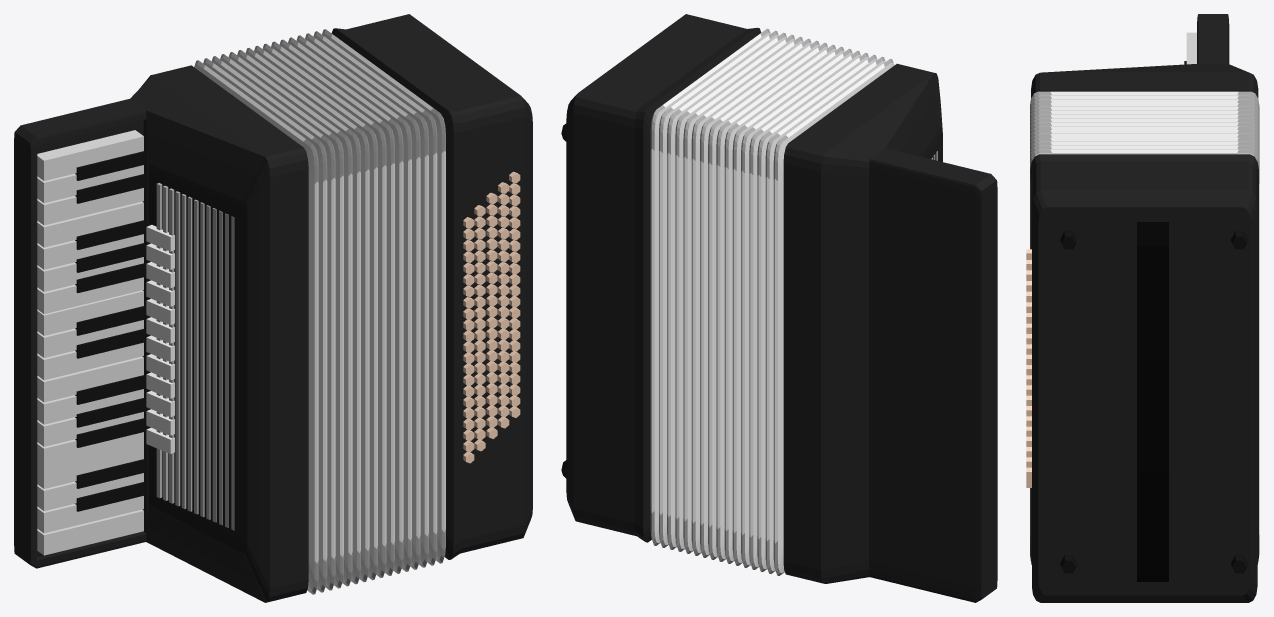
The model's file is Accordion07.fbx.
The picture shows the model from 3 angles, left to right: view 1: azimuth 30°, elevation 25°; view 2: azimuth 150°, elevation 25°; view 3: azimuth 270°, elevation 25°; orthographic projection. The views are drawn at different scales.
Visible parts, largest first — view 1: Cube.010; view 2: Cube.010; view 3: Cube.010.
Part boxes in pixels (box(x1,y1,x2,y2)): Cube.010: box(14, 14, 532, 602); Cube.010: box(561, 14, 997, 602); Cube.010: box(1026, 14, 1259, 602).
Size of the model in its own units: 57.38 by 54.85 by 27.59.
